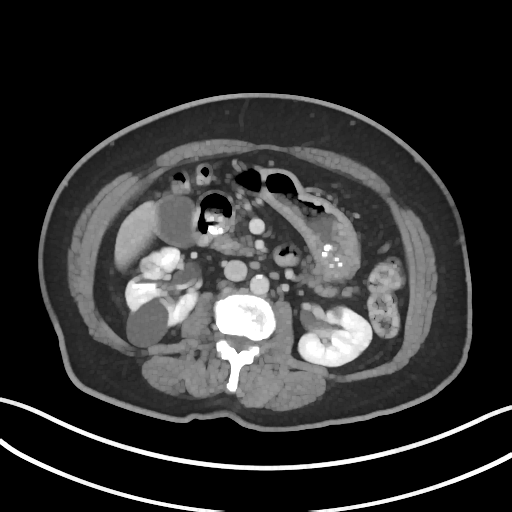Lesion: (125, 301, 170, 345), (137, 259, 164, 281)
